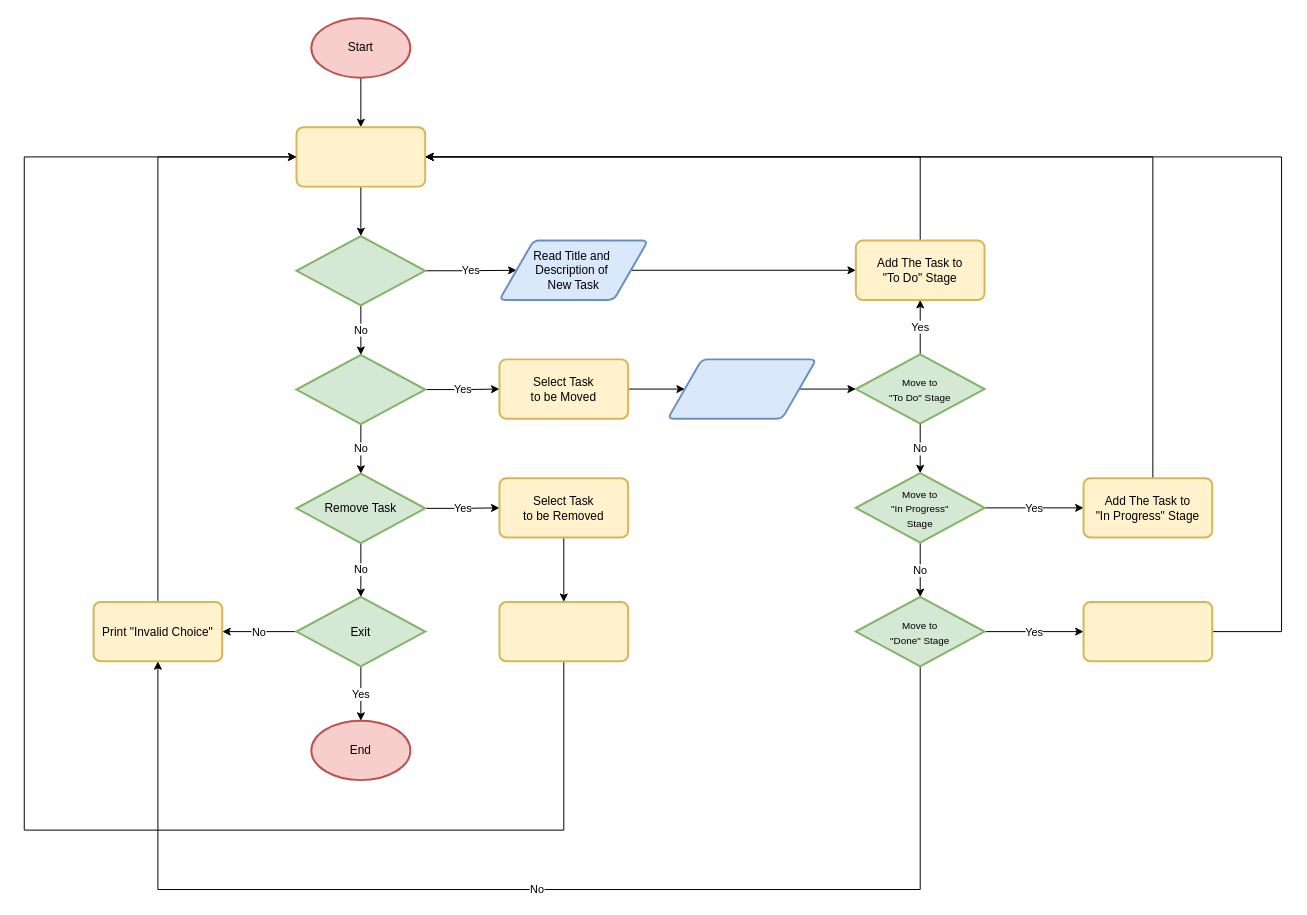
This 1307x915 diagram has some shape labels left out. The centre of each missing label's shape, as x and y in pixels:
Add Task: pixel 360 270
Add The Task to "Done" Stage: pixel 1147 631
Display Tasks: pixel 360 156
Move Task: pixel 360 389
Read Stage Input: pixel 741 388
Remove Selected Task: pixel 563 631
